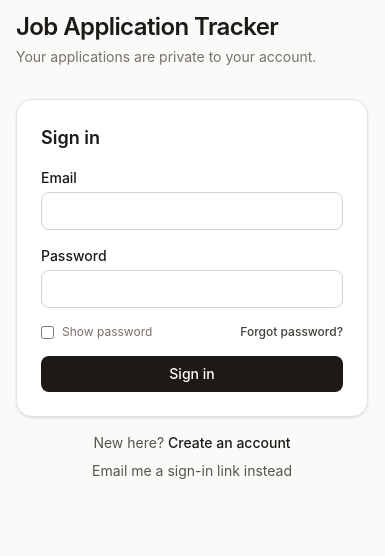
AuthScreen › shows a friendly error when sign-in fails
This screenshot has width=385, height=556.
Type "a@b.co" into the field labelled "Email" at (192, 211), box [41,192,343,230]
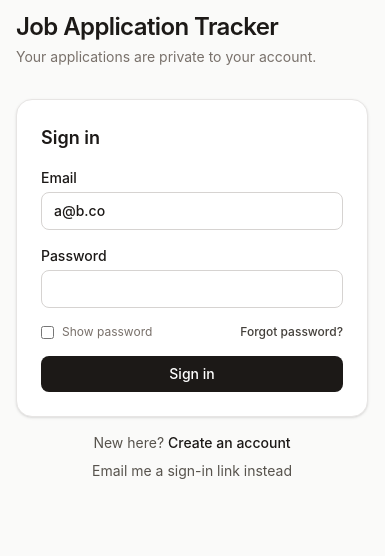
Type "wrong-pass" into the password field labelled "Password" at (192, 289), box [41,270,343,308]
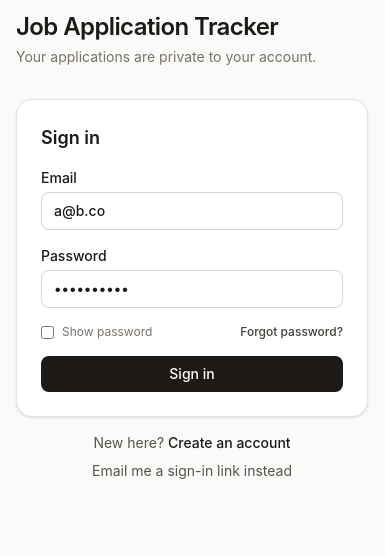
Click the button "Sign in" at (192, 374), box [41,356,343,392]
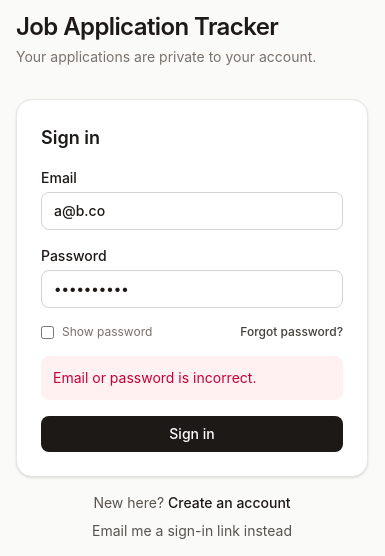
Result: the message reads "Email or password is incorrect." at [53,369,256,386]
